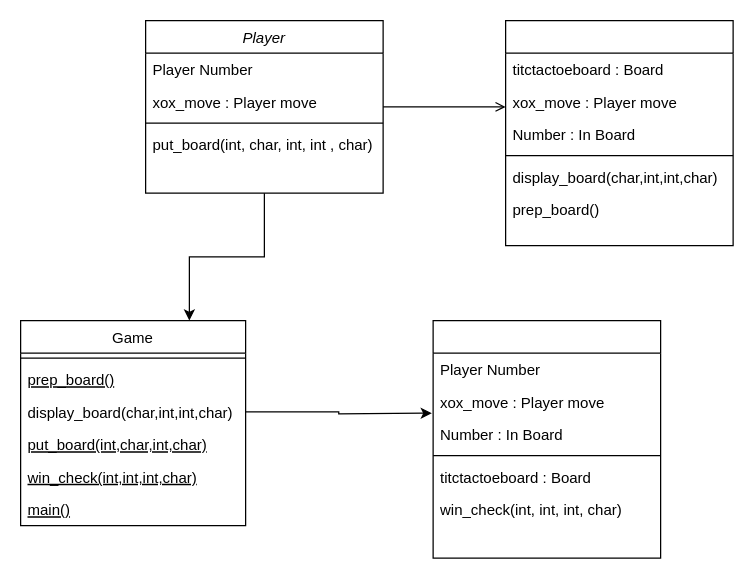
Image size: 754x579. Some labels were removed from this diagram. Each missing label, with the box of its shape:
Final winner: (432, 319, 661, 558)
TicTacToe Board: (504, 19, 733, 246)
